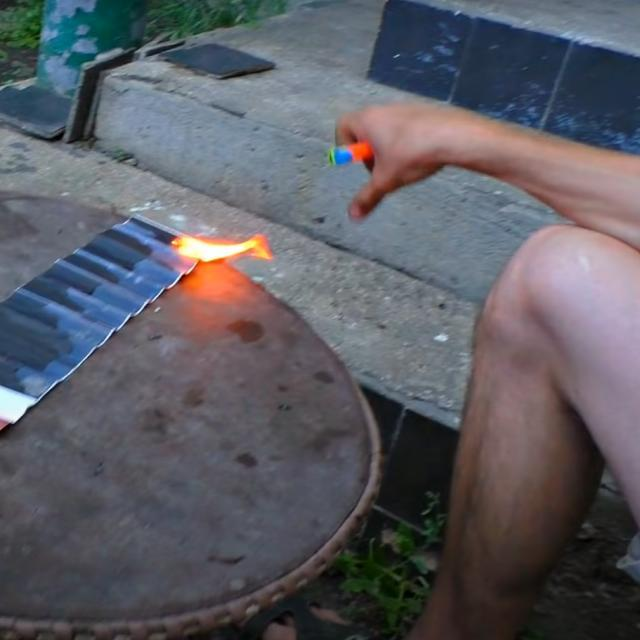Fire: (170, 232, 278, 268)
